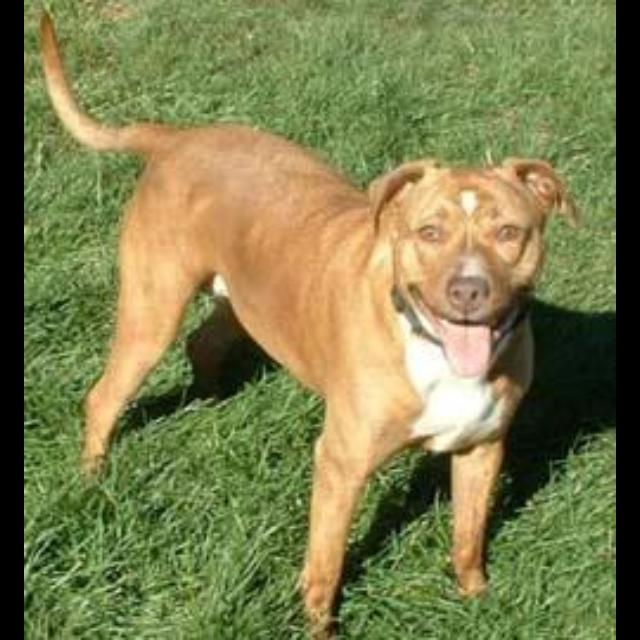amstaff: (35, 4, 582, 639)
